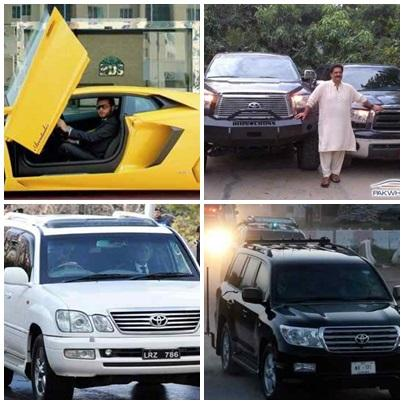windshield: (41, 231, 202, 293), (274, 254, 393, 309), (208, 50, 302, 80)
